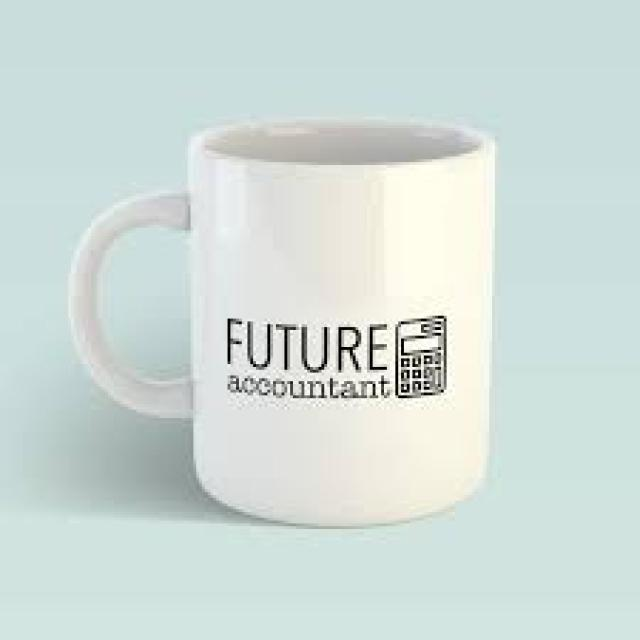taza: (66, 117, 498, 526)
